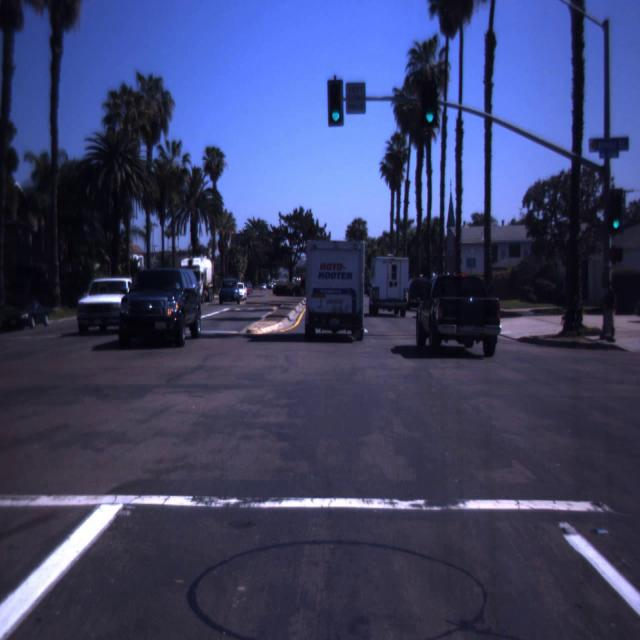yesil: (328, 80, 343, 127), (609, 189, 624, 234)
